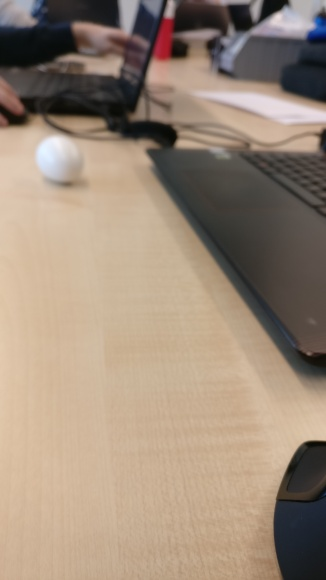egg: (34, 135, 86, 185)
